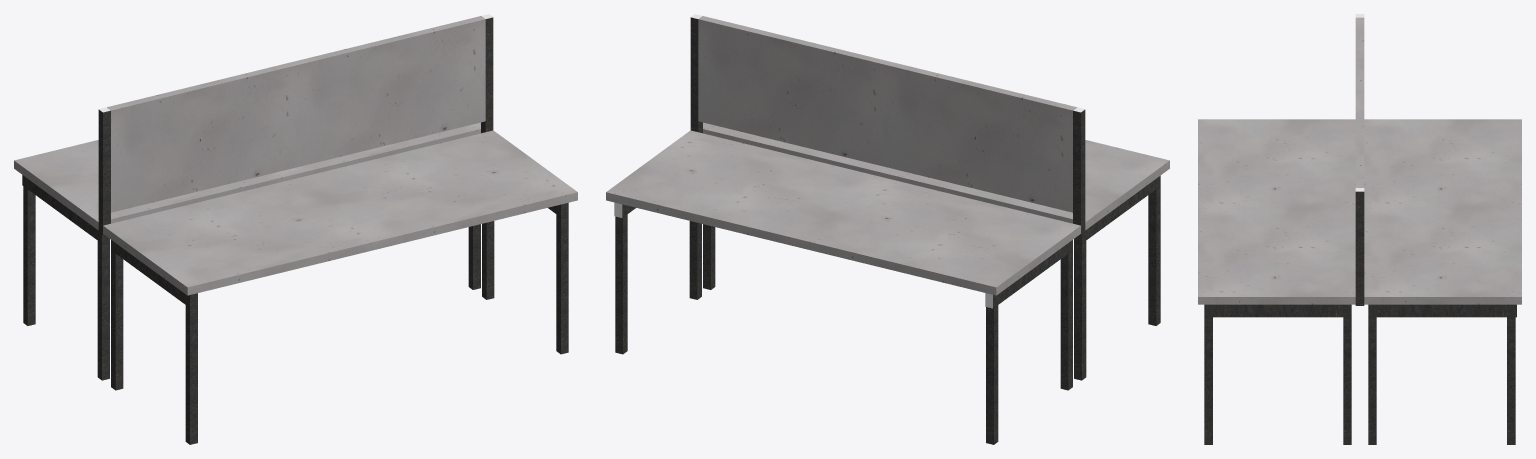
File: Desk.fbx
3 views of the same model, side by side, from view 1: azimuth 30°, elevation 25°; view 2: azimuth 150°, elevation 25°; view 3: azimuth 270°, elevation 25° (orthographic). The views are drawn at different scales.
Parts seen in each view (by area): view 1: node_id49 (×3), node_id22, node_id19, node_id46, node_id10, node_id40, node_id34, node_id31, node_id37, node_id16, node_id28, node_id43; view 2: node_id49 (×3), node_id40, node_id10, node_id22, node_id46, node_id7, node_id34, node_id31, node_id43, node_id37, node_id28, node_id16; view 3: node_id49 (×3), node_id25, node_id13, node_id19, node_id7, node_id43, node_id37, node_id31.
Boxes of the visible parts, box(x1,y1,x2,y2) form: node_id49 (×3): box(14, 16, 577, 295); node_id22: box(185, 293, 197, 444); node_id19: box(556, 202, 568, 354); node_id46: box(97, 230, 109, 380); node_id10: box(23, 176, 35, 325); node_id40: box(111, 240, 123, 390); node_id34: box(98, 109, 110, 234); node_id31: box(481, 17, 493, 133); node_id37: box(482, 221, 494, 299); node_id16: box(22, 175, 98, 240); node_id28: box(112, 240, 185, 304); node_id43: box(468, 224, 480, 289); node_id49 (×3): box(606, 16, 1169, 295); node_id40: box(1074, 230, 1086, 380); node_id10: box(986, 294, 998, 444); node_id22: box(1148, 175, 1160, 325); node_id46: box(1060, 240, 1072, 390); node_id7: box(615, 214, 627, 354); node_id34: box(1073, 109, 1085, 234); node_id31: box(690, 17, 702, 133); node_id43: box(689, 221, 701, 299); node_id37: box(703, 224, 715, 289); node_id28: box(1082, 179, 1156, 242); node_id16: box(993, 243, 1068, 308); node_id49 (×3): box(1198, 17, 1521, 304); node_id25: box(1207, 304, 1349, 317); node_id13: box(1374, 304, 1516, 317); node_id19: box(1204, 304, 1212, 444); node_id7: box(1507, 304, 1515, 444); node_id43: box(1368, 304, 1376, 444); node_id37: box(1343, 304, 1351, 444); node_id31: box(1355, 191, 1364, 305).
Bounding box in the file's own units: 0.512 × 0.3439 × 0.3942.
31 materials, 17 textured.
